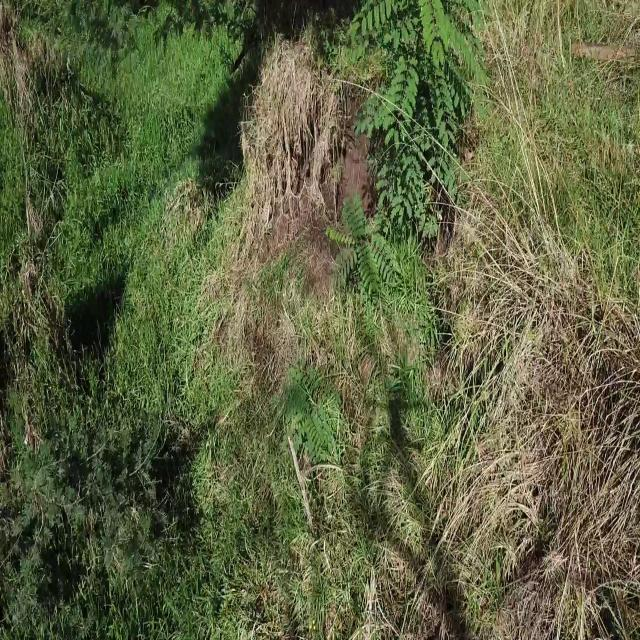Mysore-Thorn-Weed: (341, 0, 491, 238), (324, 182, 406, 312), (278, 356, 345, 462)
